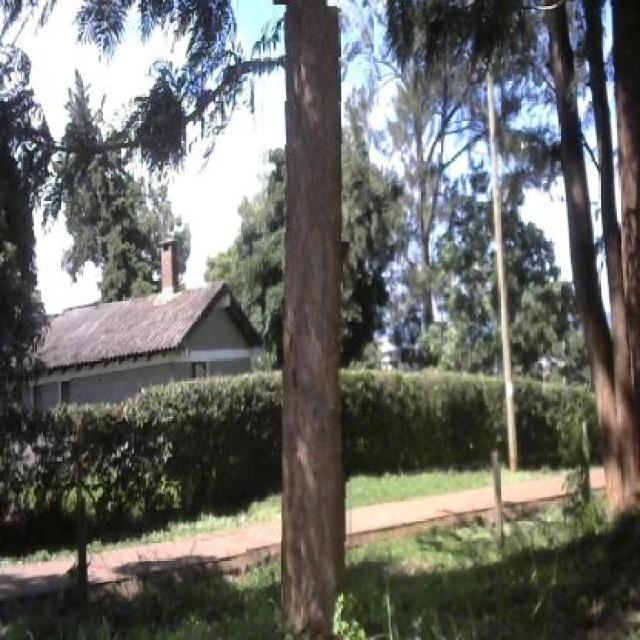tree trunk: (248, 4, 368, 636)
